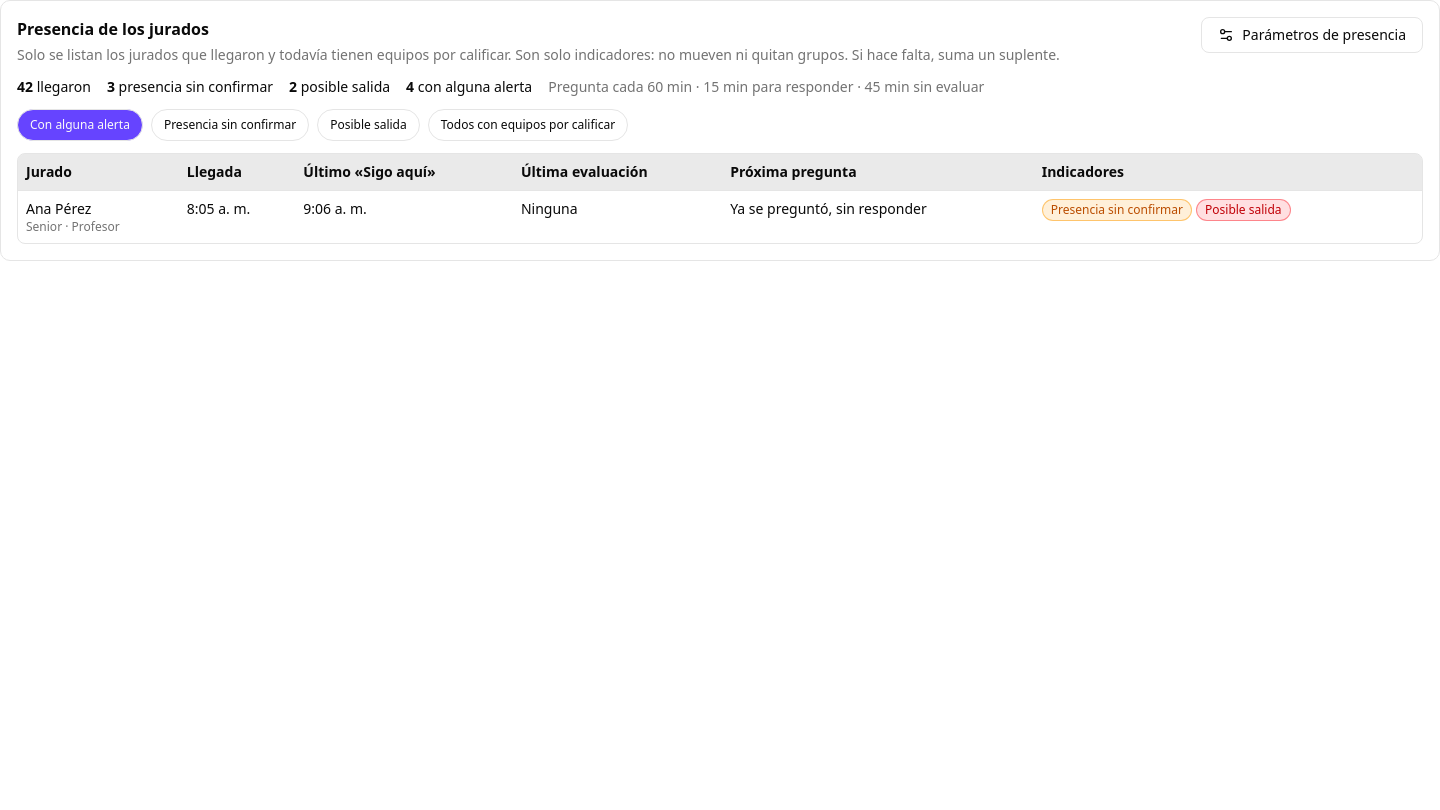
Test: Presencia de los jurados en el panel (HU-23) › muestra los mensajes del back si rechaza los parámetros
The image size is (1440, 810).
Expected: the text "Ana Pérez" is shown, [26,199,91,218]
Click the button "Parámetros de presencia": [1312, 35] box [1201,17,1423,53]
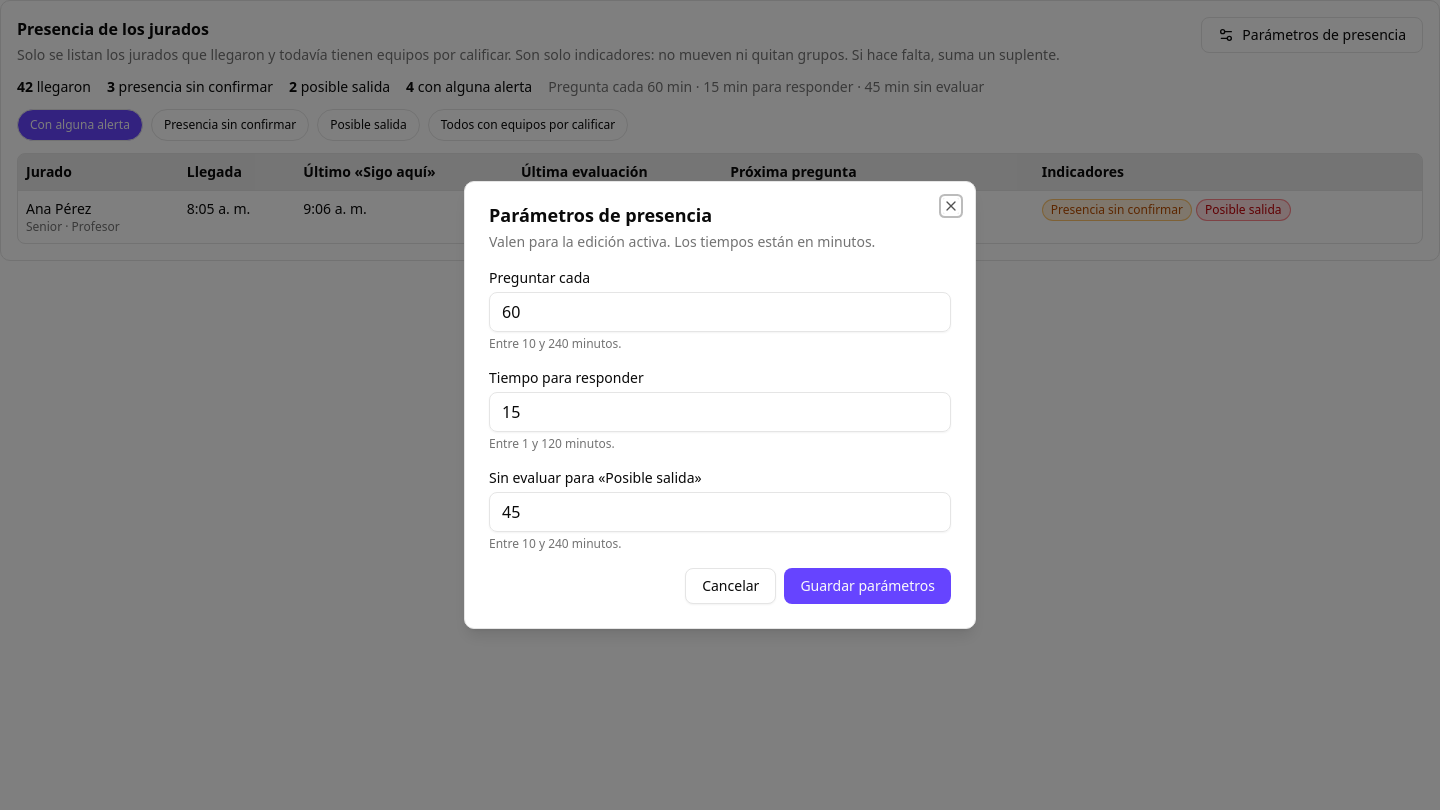
Replace the text in the number field labelled "Sin evaluar para «Posible salida» Entre 10 y 240 minutos." with "50": [720, 512] box [489,492,951,532]
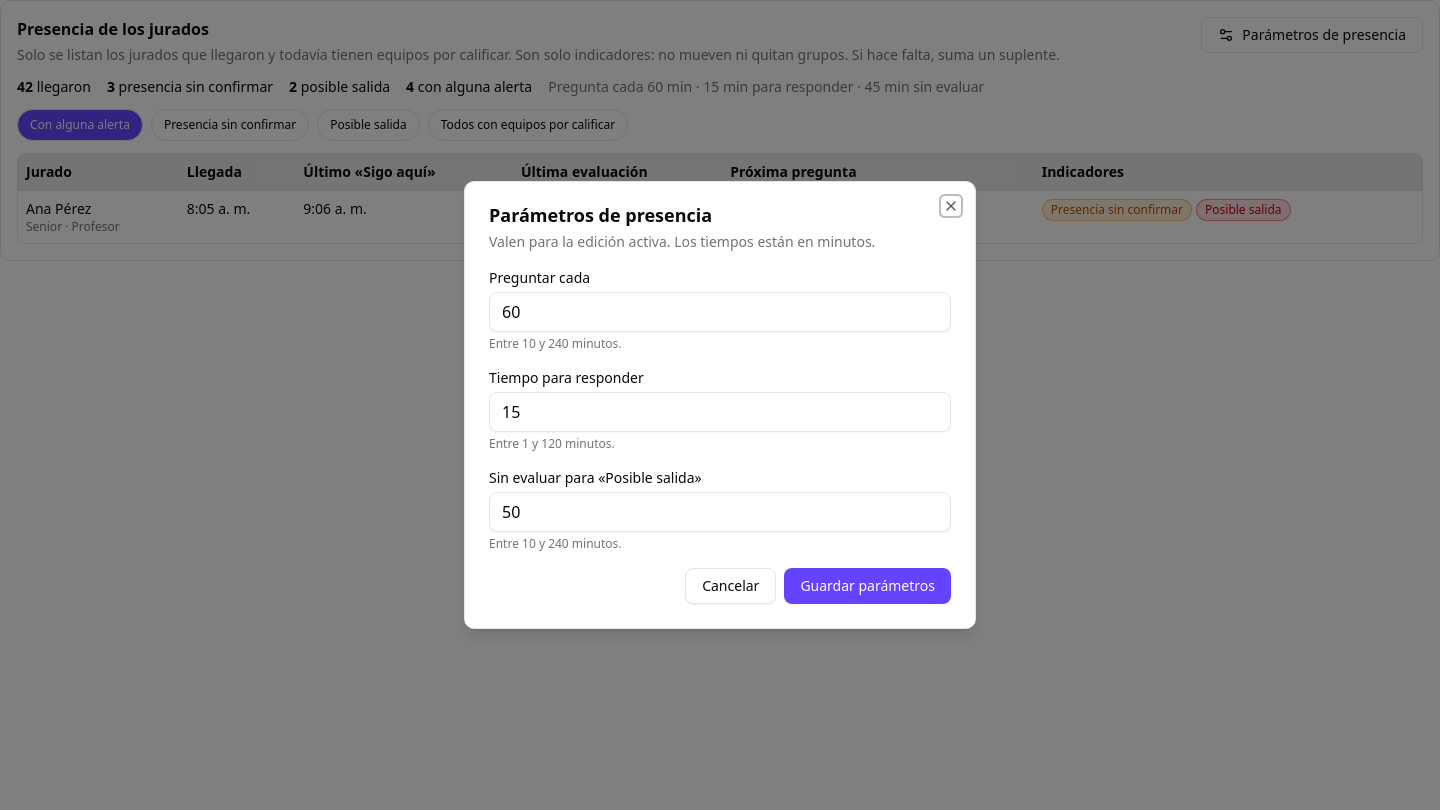
Click the button "Guardar parámetros": [868, 586] box [784,568,951,604]
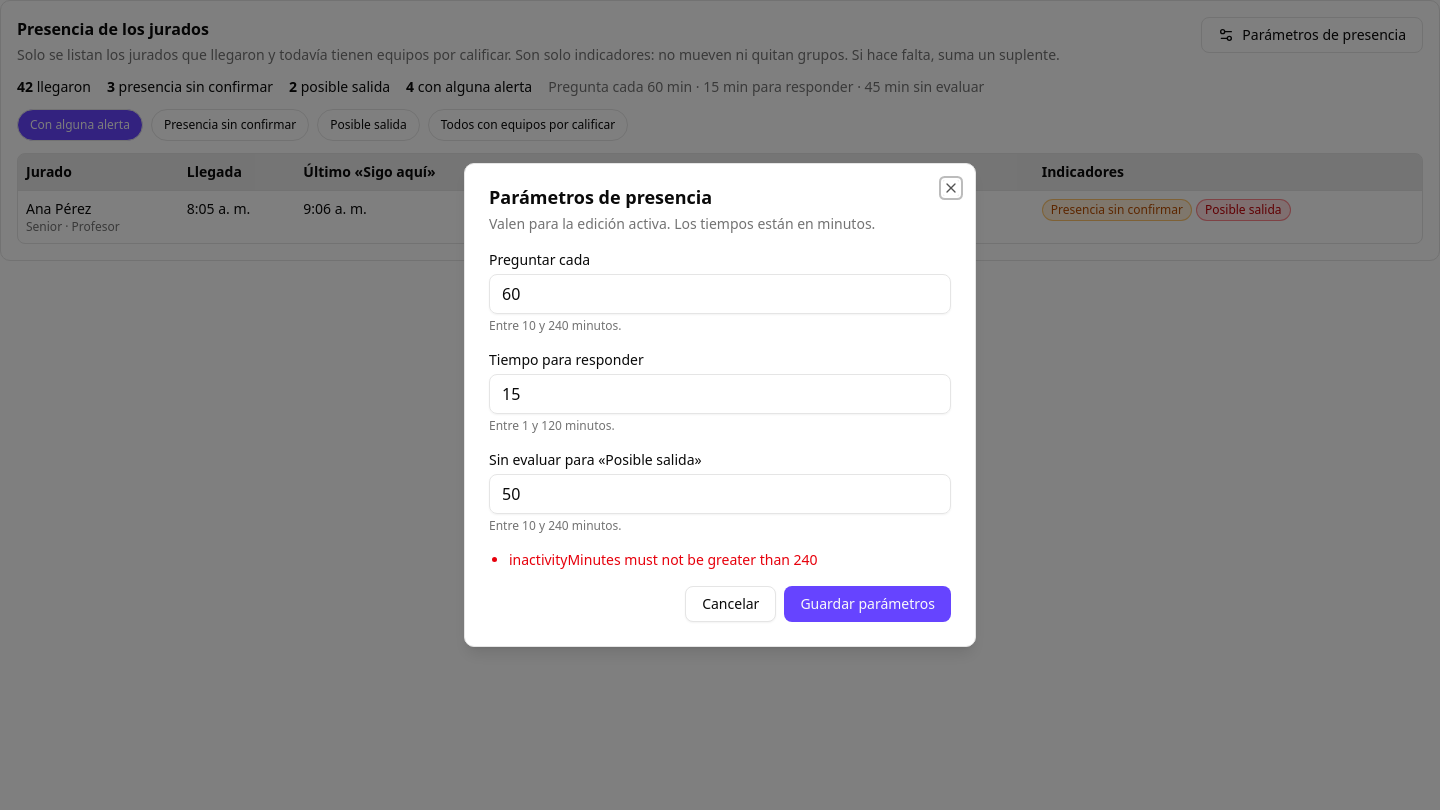
Expected: the list item "inactivityMinutes must not be greater than 240" is shown, [509,550,818,569]
